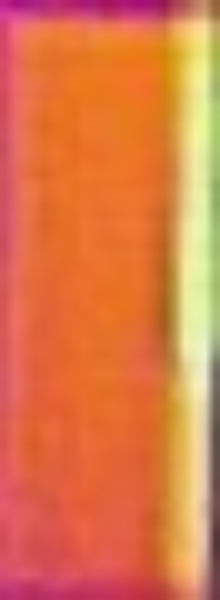Diode: (161, 12, 220, 586)
